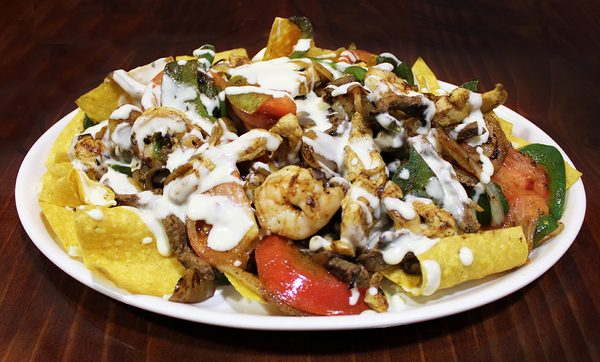curry: (2, 2, 555, 354)
sandwich: (33, 16, 586, 323)
